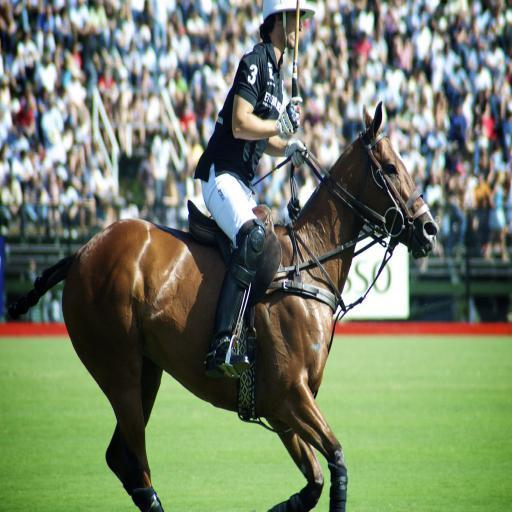horse: (8, 100, 441, 512)
